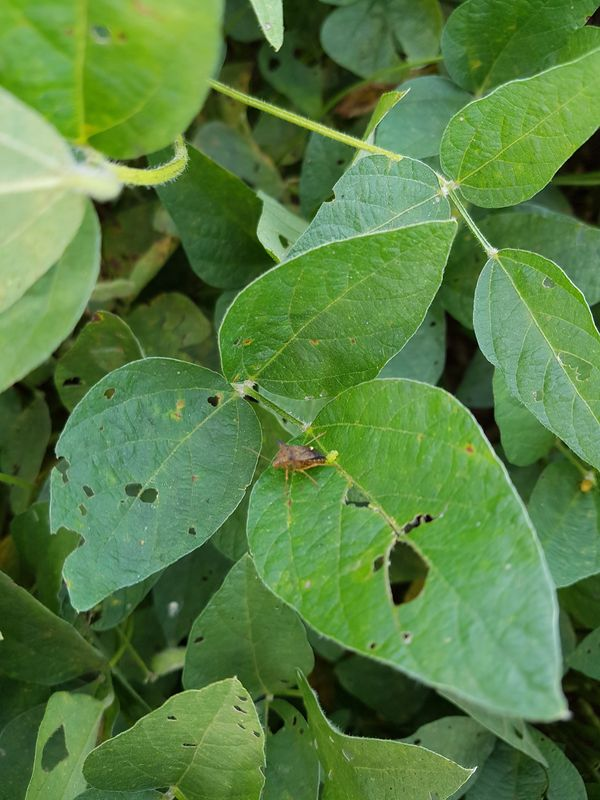Euschistus_heros_adulto: (249, 424, 341, 496)
